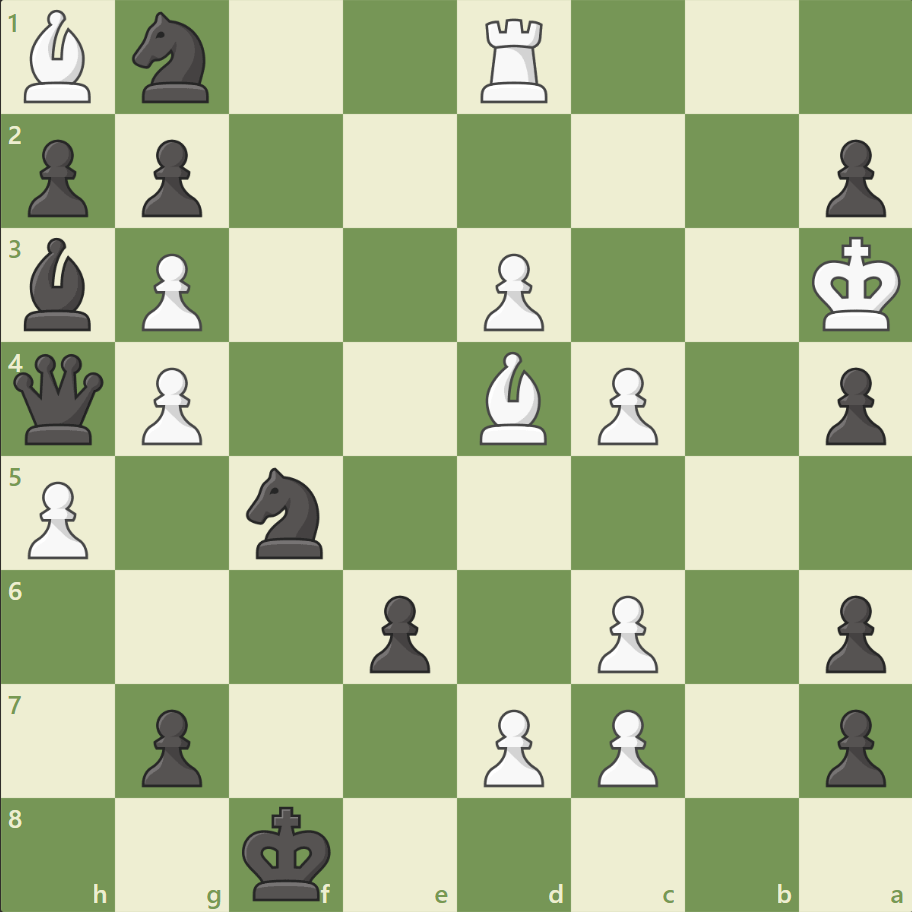B: (17, 6, 101, 109), (471, 347, 555, 449)
K: (806, 231, 906, 339)
P: (474, 700, 549, 791), (20, 473, 95, 564), (133, 359, 208, 450), (474, 246, 549, 337), (133, 246, 208, 337), (588, 700, 662, 791), (588, 586, 662, 677), (588, 359, 662, 450)
R: (473, 12, 556, 109)
b: (17, 233, 101, 336)
k: (238, 798, 338, 906)
n: (124, 7, 222, 110), (238, 461, 335, 564)
p: (133, 700, 208, 791), (133, 132, 208, 223), (20, 132, 95, 223), (815, 700, 889, 791), (815, 586, 889, 677), (361, 586, 435, 677), (815, 359, 889, 450), (815, 132, 889, 223)
q: (10, 349, 109, 449)
